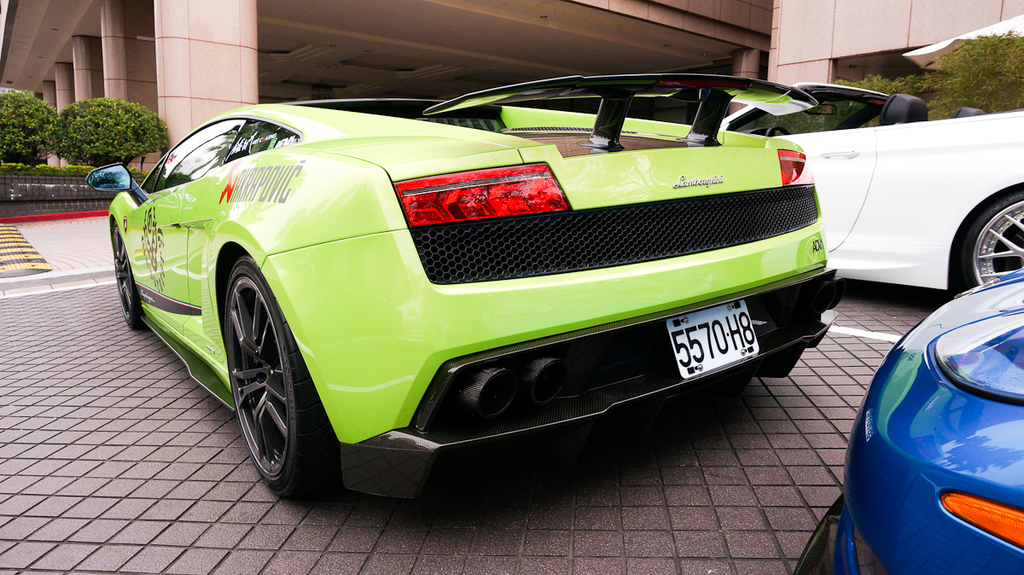Car: (118, 75, 850, 501), (798, 268, 1023, 574), (708, 81, 1023, 299)
